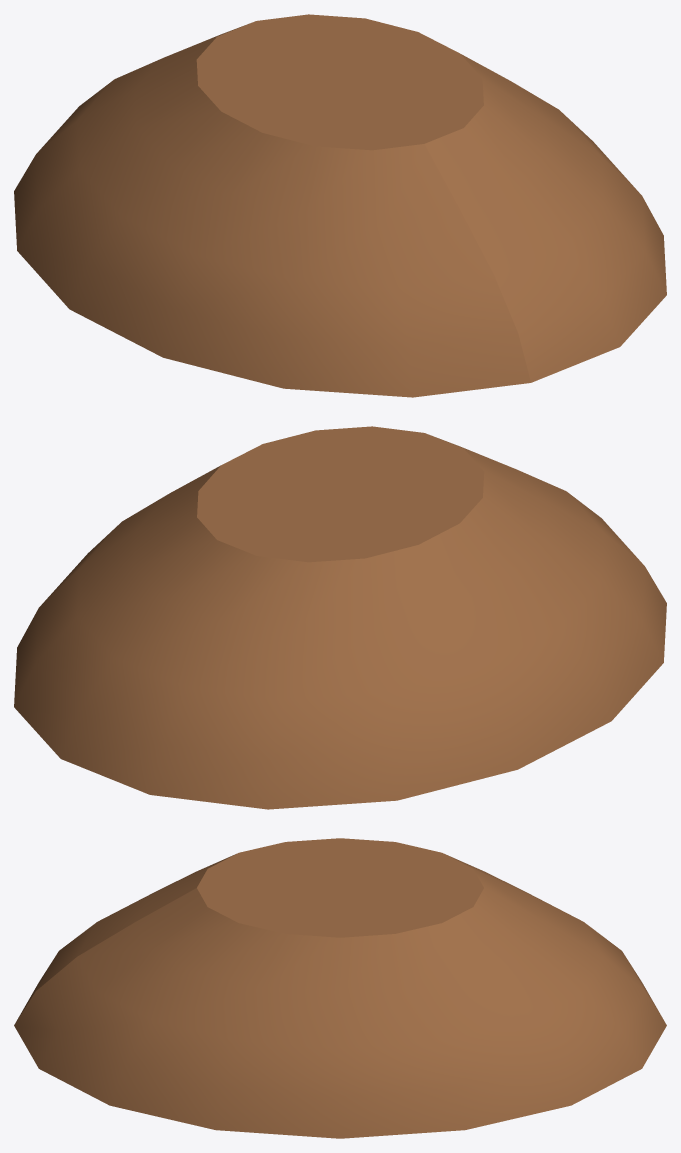
The model's file is meso-laventa-c1.glb.
The picture shows the model from 3 angles, top to bottom: view 1: azimuth 30°, elevation 25°; view 2: azimuth 150°, elevation 25°; view 3: azimuth 270°, elevation 25°; orthographic projection. The views are drawn at different scales.
Visible parts, largest first — view 1: meso-mound; view 2: meso-mound; view 3: meso-mound.
Part boxes in pixels (<box>): meso-mound: <box>14,14,666,397</box>; meso-mound: <box>14,426,666,809</box>; meso-mound: <box>14,838,666,1138</box>.
Size of the model in its own units: 120 by 33.97 by 146.
